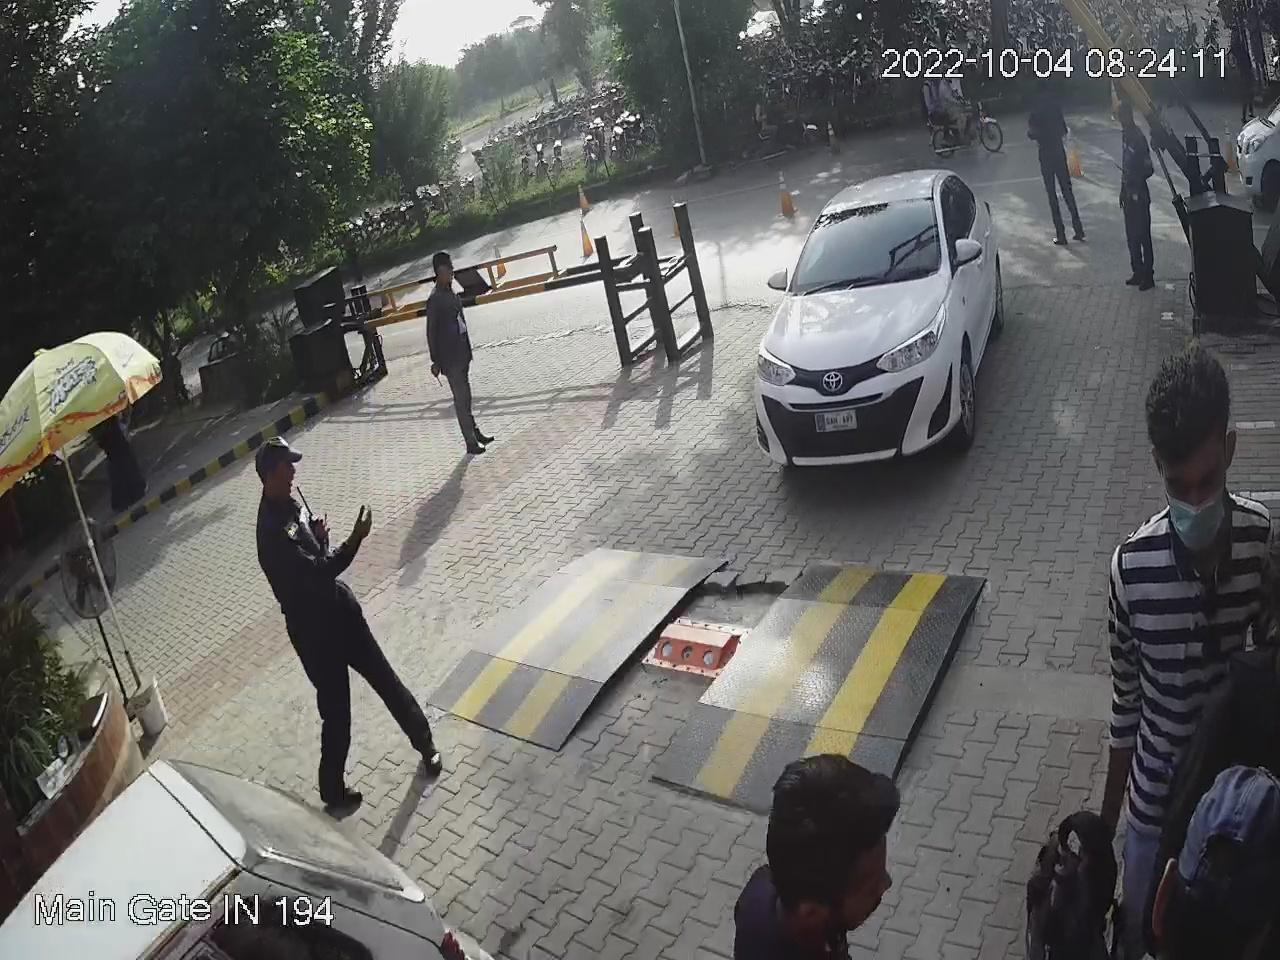windshield: (785, 190, 940, 292)
